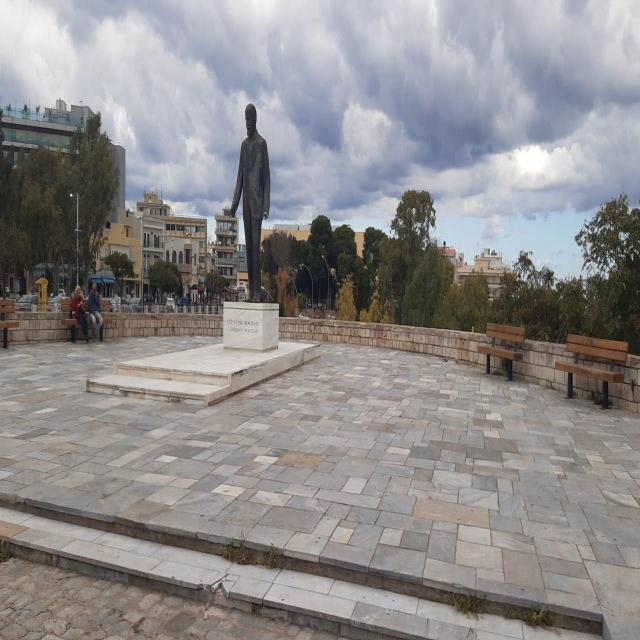Venizelos: (231, 102, 271, 310)
